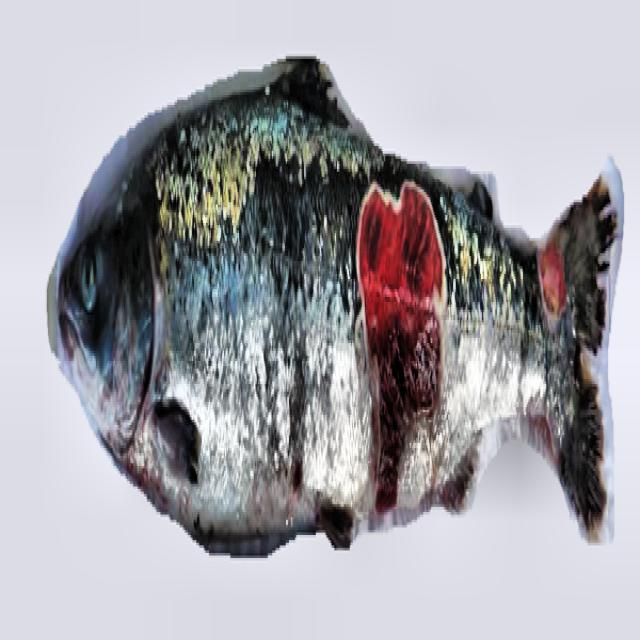mild_red: (147, 64, 546, 538)
wound: (355, 177, 448, 521), (533, 238, 570, 327)
